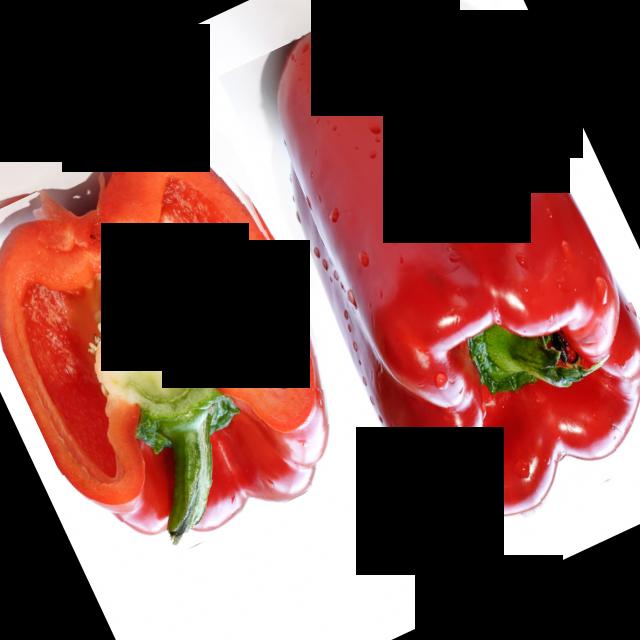pepper: (218, 0, 640, 556), (0, 107, 380, 583)
